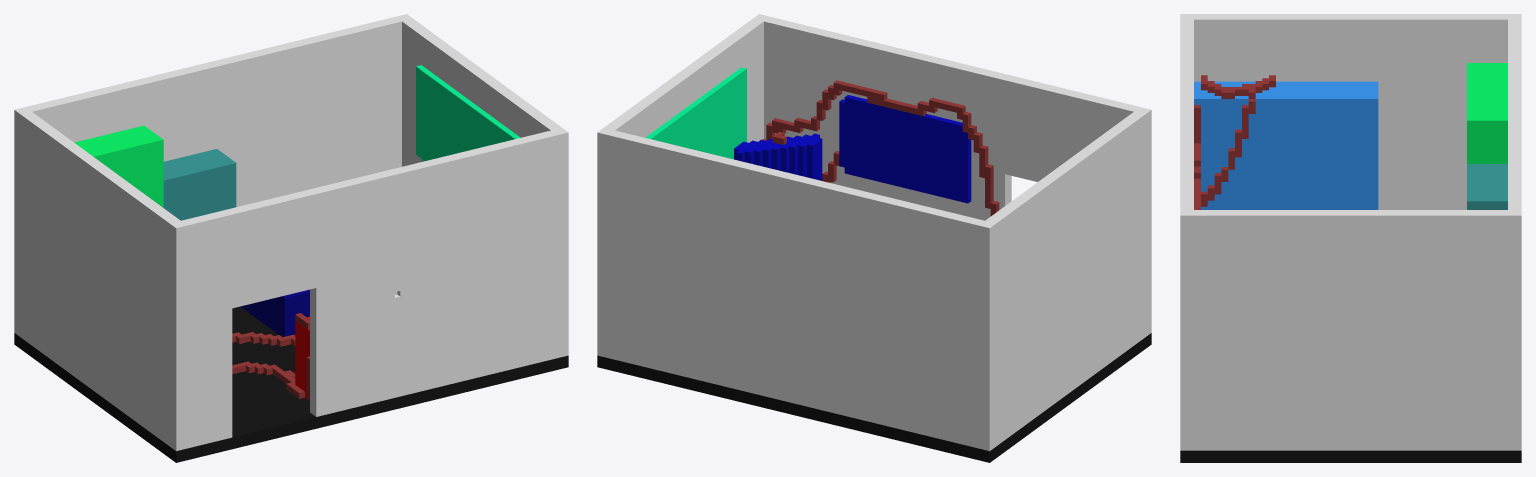
Rendered from hacker room.mtl.obj.
The picture shows the model from 3 angles, left to right: view 1: azimuth 30°, elevation 25°; view 2: azimuth 150°, elevation 25°; view 3: azimuth 270°, elevation 25°; orthographic projection. The views are drawn at different scales.
Bounding box in the file's own units: 7 × 4 × 5.
Materials: 1 (1 with a texture image).
